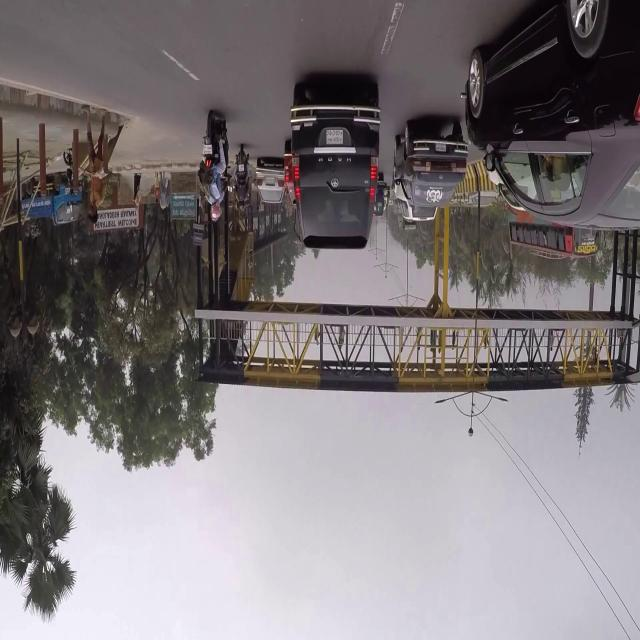black: (289, 82, 381, 251)
maroon: (460, 2, 640, 233), (393, 120, 468, 209)
silver: (256, 161, 286, 202)
